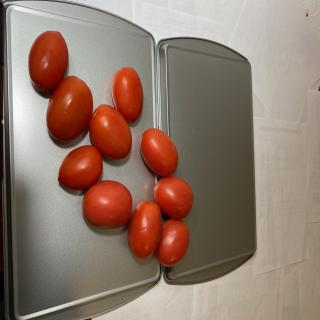Chilli: (28, 29, 194, 268)
Tomato: (46, 75, 93, 142), (28, 30, 69, 93), (82, 180, 132, 229), (89, 104, 132, 160), (58, 145, 103, 190), (128, 200, 162, 259), (140, 128, 178, 176), (112, 67, 144, 123), (154, 176, 194, 219), (156, 218, 190, 266)
